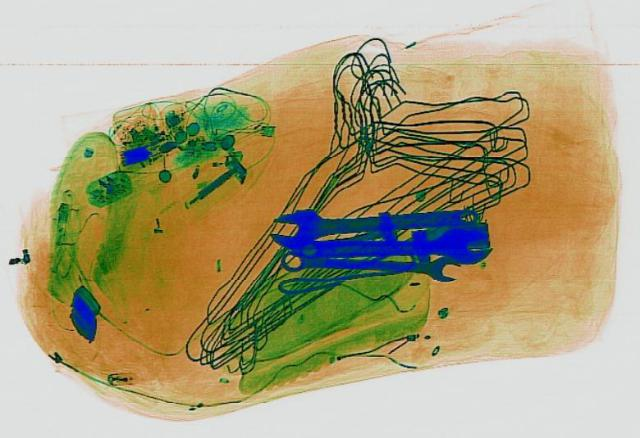Wrench: (266, 198, 482, 252), (300, 224, 490, 266), (277, 243, 458, 281)
